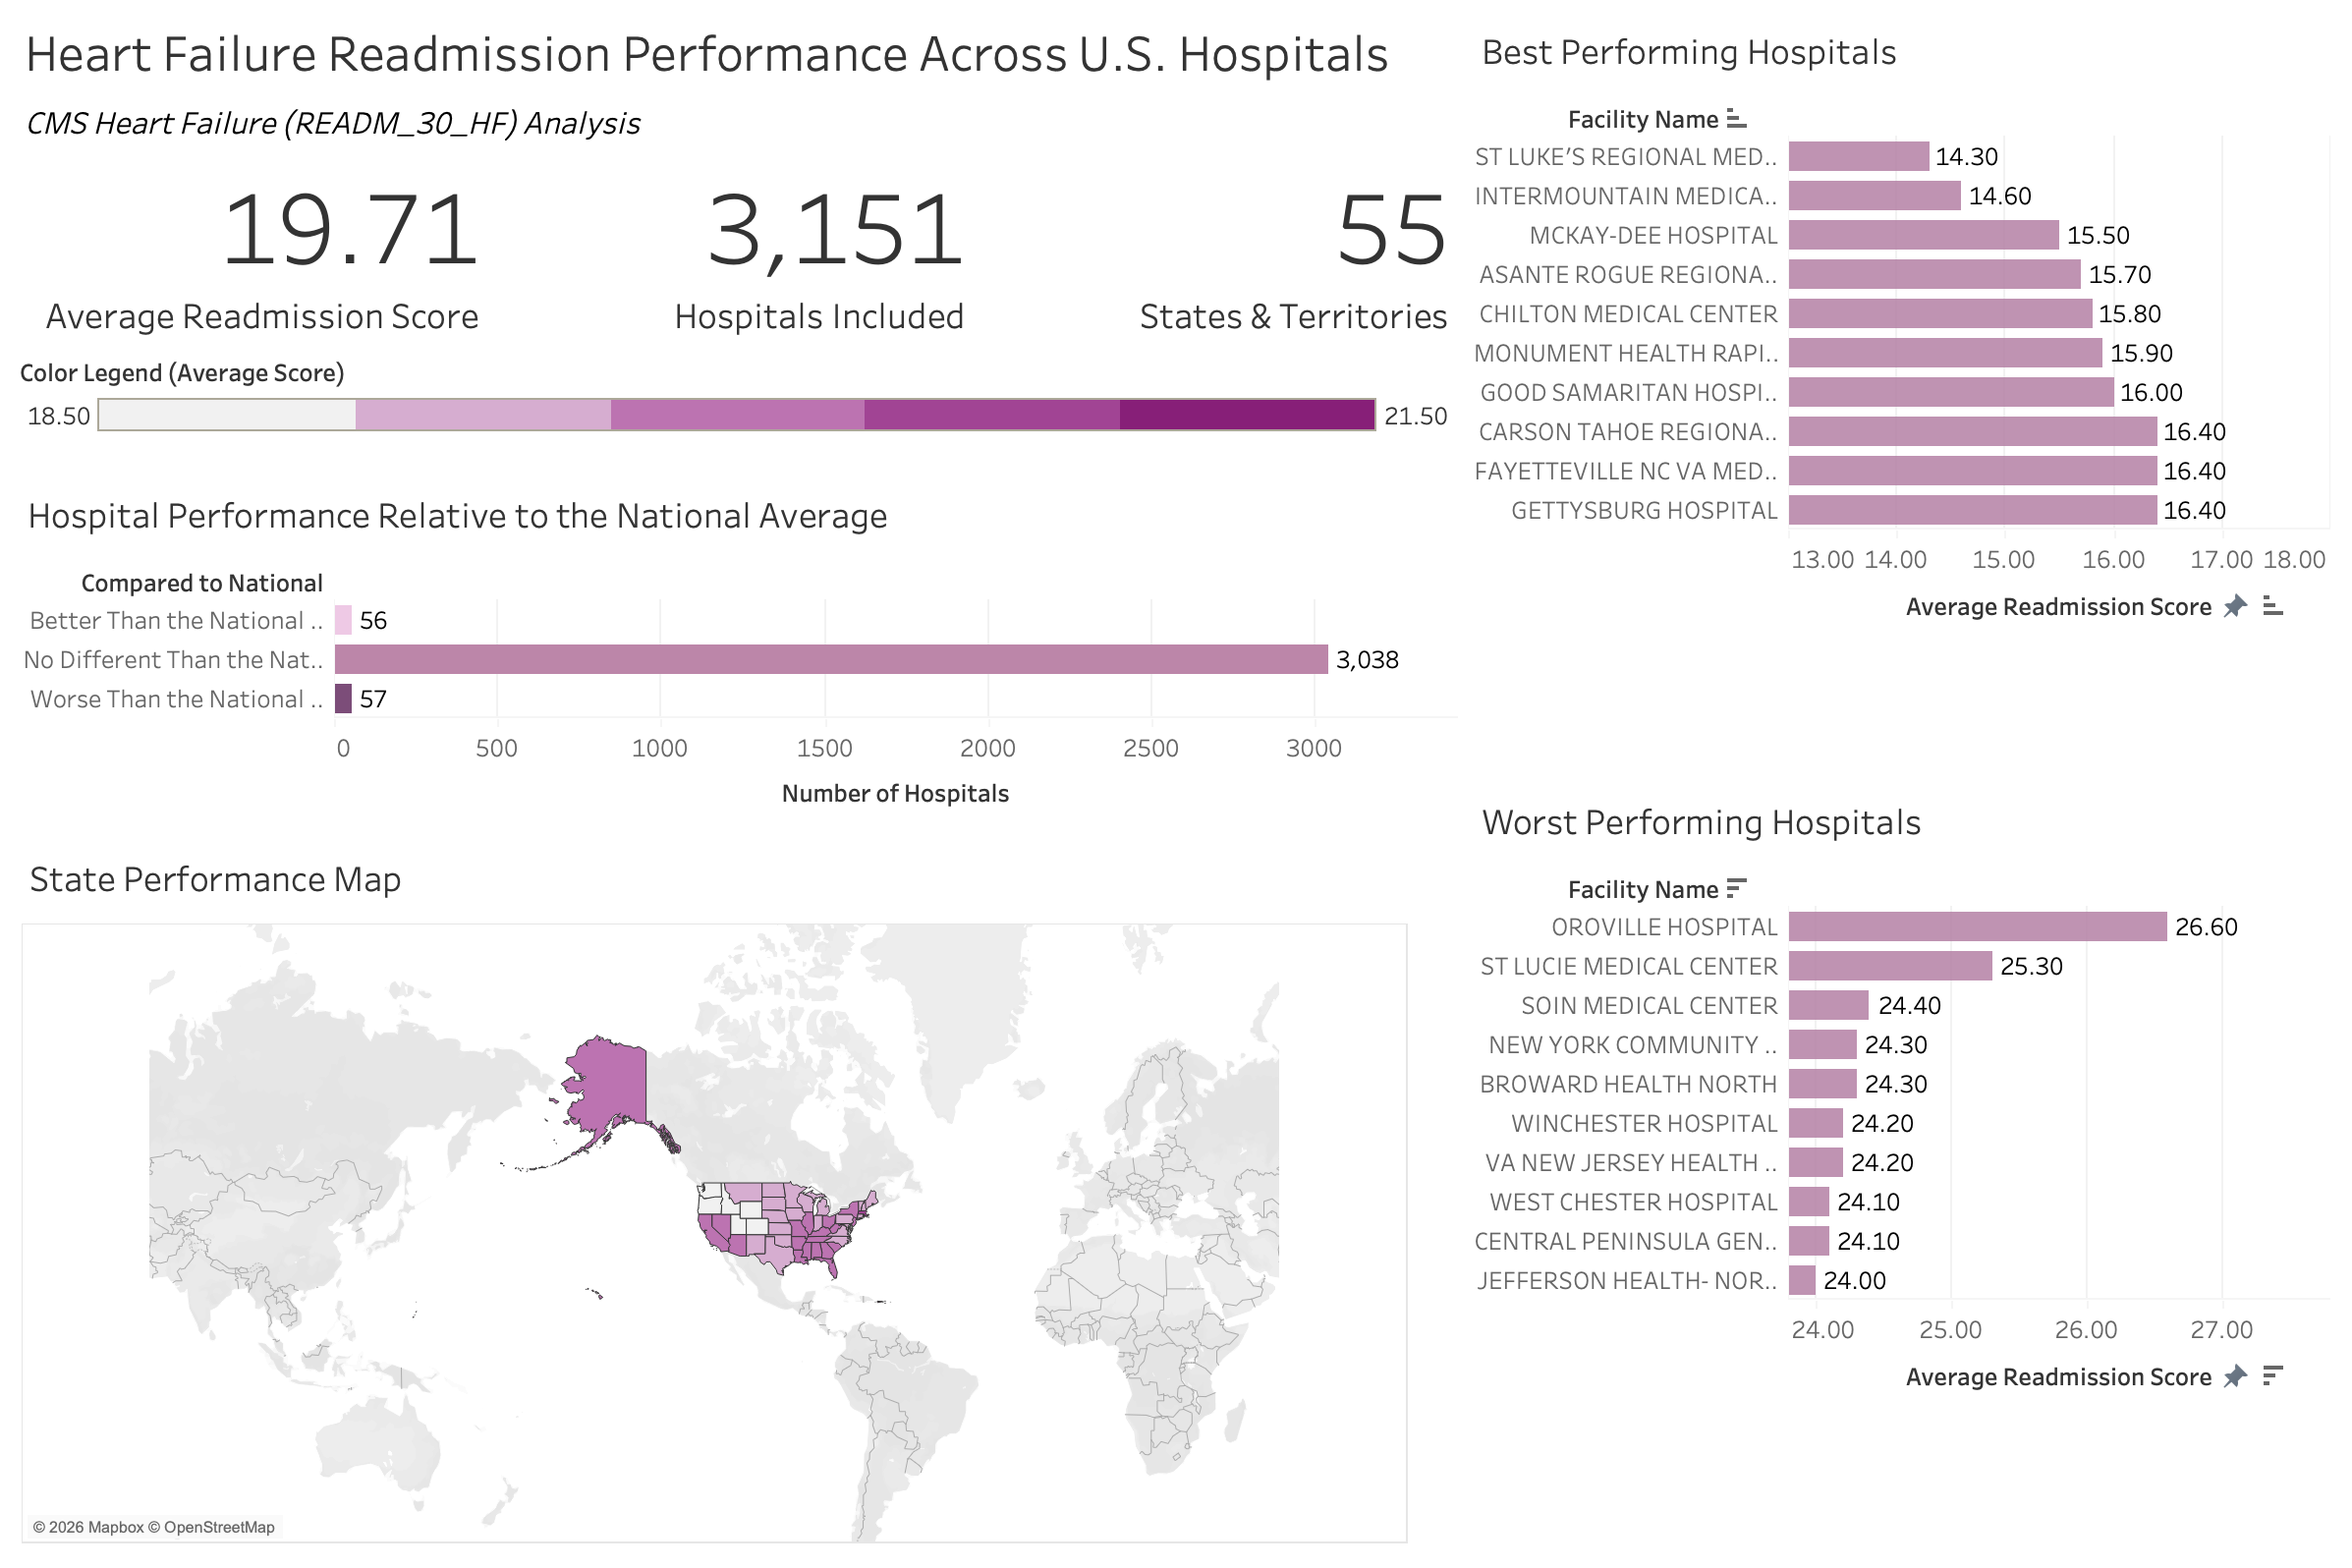

Layout of this report page (visuals, bound fields, positions):
{"tool":"tableau","page":{"name":"Heart Failure Readmission Dashboard","canvas":[1200,800],"ordinal":0},"visuals":[{"type":"title","box":[8,8,740,42]},{"type":"worksheet","title":"Top_10_Hospitals","mark":"Automatic","rows":["Facility Name"],"cols":["Score"],"box":[748,8,444,392]},{"type":"text","box":[8,50,740,29]},{"type":"worksheet","title":"KPI_AVG_Score","mark":"Automatic","box":[8,79,247,100]},{"type":"worksheet","title":"KPI_Total_Hospitals","mark":"Automatic","box":[255,79,247,100]},{"type":"worksheet","title":"KPI_States","mark":"Automatic","box":[502,79,246,100]},{"type":"legend","title":"Read_by_State","param":"[federated.0ii6ffd140x7hf1g8xq560ypigej].[avg:Score:qk]","box":[8,179,740,65]},{"type":"worksheet","title":"Hospital_Performance","mark":"Automatic","rows":["Compared to National"],"cols":["Compared to National"],"box":[8,244,740,181]},{"type":"worksheet","title":"Bottom_10_Hospitals","mark":"Automatic","rows":["Facility Name"],"cols":["Score"],"box":[748,400,444,392]},{"type":"worksheet","title":"Read_by_State","mark":"Automatic","box":[32,450,667,328]}]}

Visuals, with their boxes in screenshot pixels (x1, y1, x2, y2), scaled from the page's 1200x800 canvas onto the 2352x1568 screenshot:
title: pyautogui.locateOnScreen(16, 16, 1466, 98)
"Top_10_Hospitals" worksheet: pyautogui.locateOnScreen(1466, 16, 2336, 784)
text: pyautogui.locateOnScreen(16, 98, 1466, 155)
"KPI_AVG_Score" worksheet: pyautogui.locateOnScreen(16, 155, 500, 351)
"KPI_Total_Hospitals" worksheet: pyautogui.locateOnScreen(500, 155, 983, 351)
"KPI_States" worksheet: pyautogui.locateOnScreen(983, 155, 1466, 351)
"Read_by_State" legend: pyautogui.locateOnScreen(16, 351, 1466, 478)
"Hospital_Performance" worksheet: pyautogui.locateOnScreen(16, 478, 1466, 833)
"Bottom_10_Hospitals" worksheet: pyautogui.locateOnScreen(1466, 784, 2336, 1552)
"Read_by_State" worksheet: pyautogui.locateOnScreen(63, 882, 1371, 1525)
